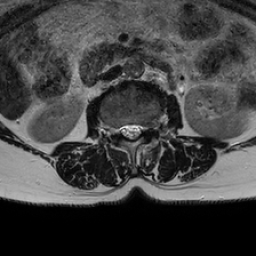CCS_normal: (128, 116, 136, 147)
LFS_stenosis: (144, 113, 152, 138)
LLS_normal: (136, 115, 144, 142)
RFS_stenosis: (112, 117, 120, 142)
RLS_normal: (120, 116, 128, 142)
